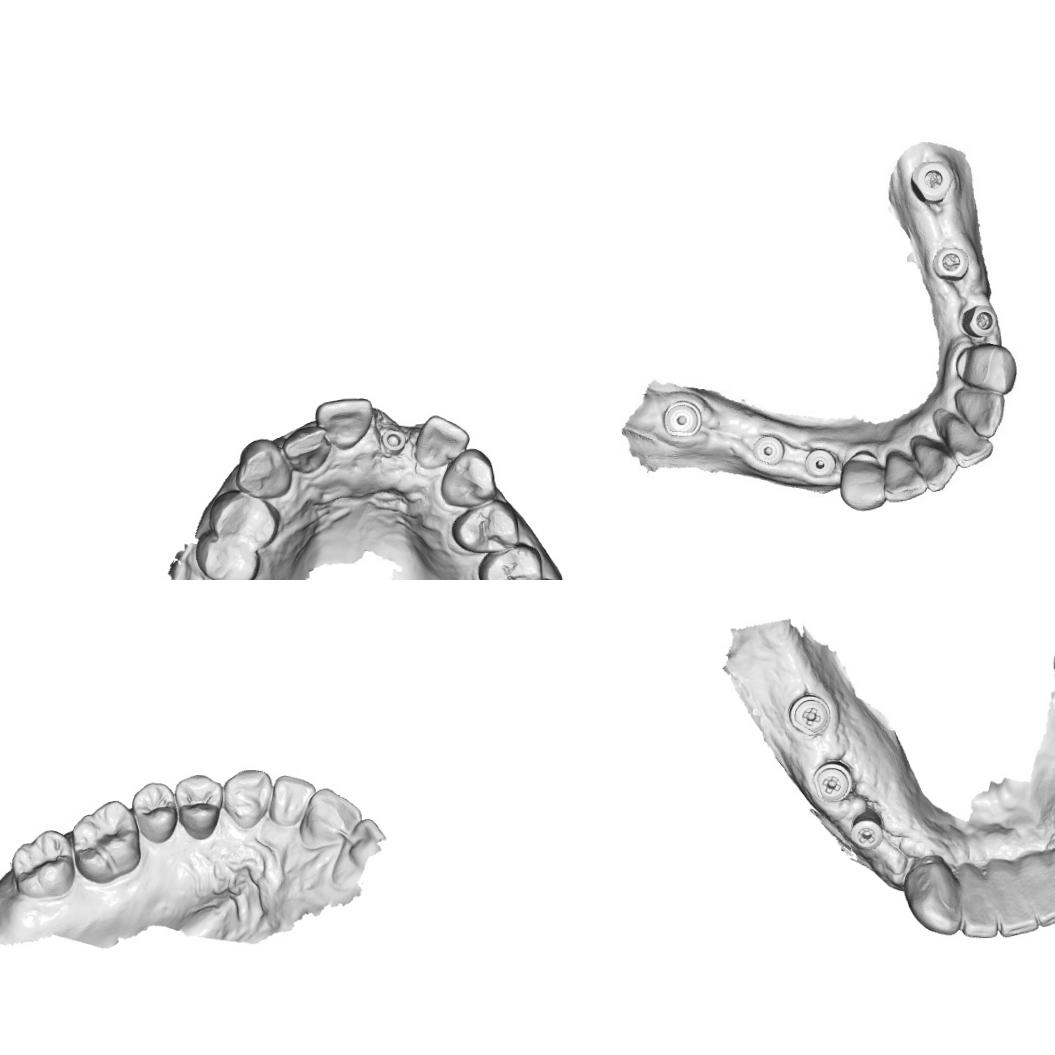canine: (900, 850, 962, 938), (437, 446, 500, 509), (233, 436, 295, 499), (220, 766, 276, 831), (954, 342, 1018, 393), (837, 452, 887, 514)
implant: (908, 158, 958, 207), (659, 398, 704, 439), (928, 244, 970, 284), (960, 302, 999, 338), (750, 431, 785, 467), (802, 446, 838, 480), (379, 426, 408, 458)
implant_plus: (808, 759, 855, 806), (786, 692, 832, 738), (848, 814, 888, 850)
incisor: (298, 786, 364, 850), (313, 394, 376, 452), (412, 412, 472, 472), (940, 412, 994, 470), (266, 772, 318, 827), (280, 425, 334, 476), (956, 387, 1006, 439), (880, 450, 927, 504), (989, 889, 1039, 938), (956, 891, 1002, 942), (914, 440, 958, 493), (1028, 878, 1055, 929)
molar: (70, 796, 143, 886), (8, 827, 76, 900)
premolar: (205, 488, 280, 550), (450, 502, 526, 553), (173, 771, 226, 842), (193, 530, 262, 580), (129, 780, 181, 844), (476, 541, 544, 580)
